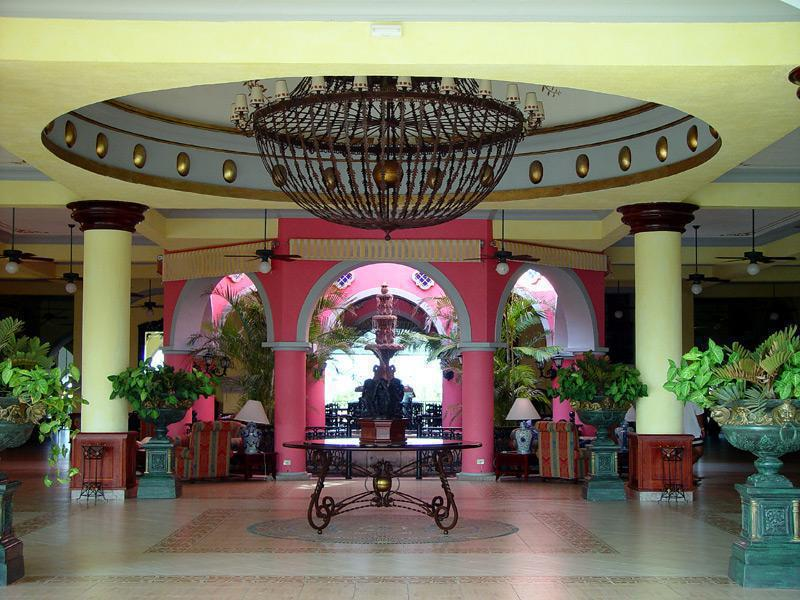Matera: (690, 325, 798, 590), (5, 335, 67, 588), (105, 366, 210, 503), (563, 350, 636, 505)
